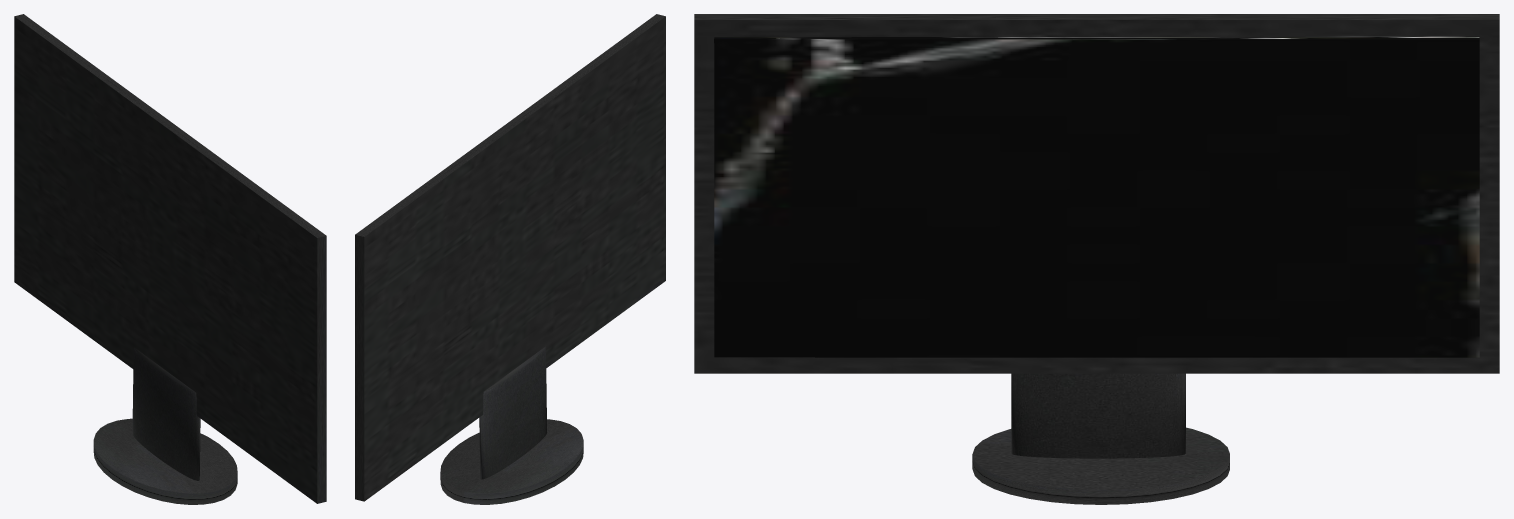
Rendered from Monitor three.fbx.
3 views of the same model, side by side, from view 1: azimuth 30°, elevation 25°; view 2: azimuth 150°, elevation 25°; view 3: azimuth 270°, elevation 25° (orthographic). The views are drawn at different scales.
Visible parts, largest first — view 1: Cube.009, Cylinder.001, Cylinder; view 2: Cube.009, Cylinder.001, Cylinder; view 3: Cube.010, Cube.009, Cylinder, Cylinder.001.
Boxes of the visible parts, x1,y1,x2,y2 form: Cube.009: [14, 14, 326, 503]; Cylinder.001: [93, 418, 237, 504]; Cylinder: [132, 347, 200, 480]; Cube.009: [355, 14, 665, 501]; Cylinder.001: [440, 419, 583, 504]; Cylinder: [479, 346, 547, 479]; Cube.010: [714, 36, 1479, 357]; Cube.009: [694, 14, 1499, 373]; Cylinder: [1011, 373, 1185, 458]; Cylinder.001: [972, 427, 1229, 504].
Bounding box in the file's own units: 84.05 × 258 × 413.
